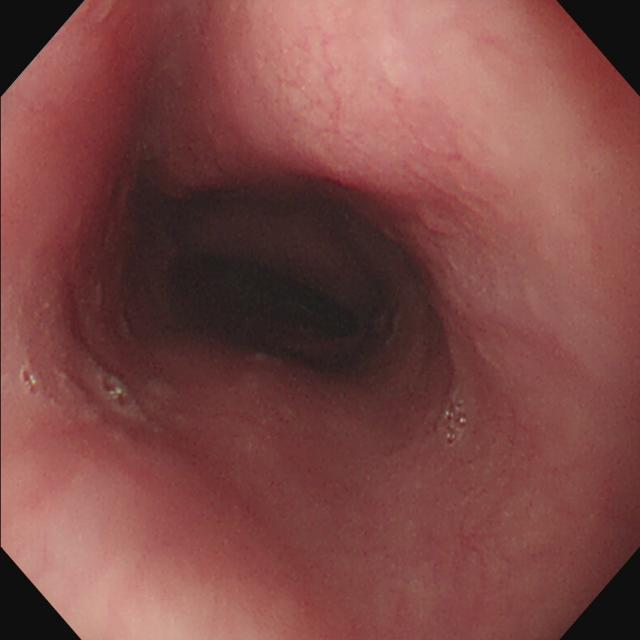E: (184, 197, 361, 375)
T: (445, 400, 469, 446)
